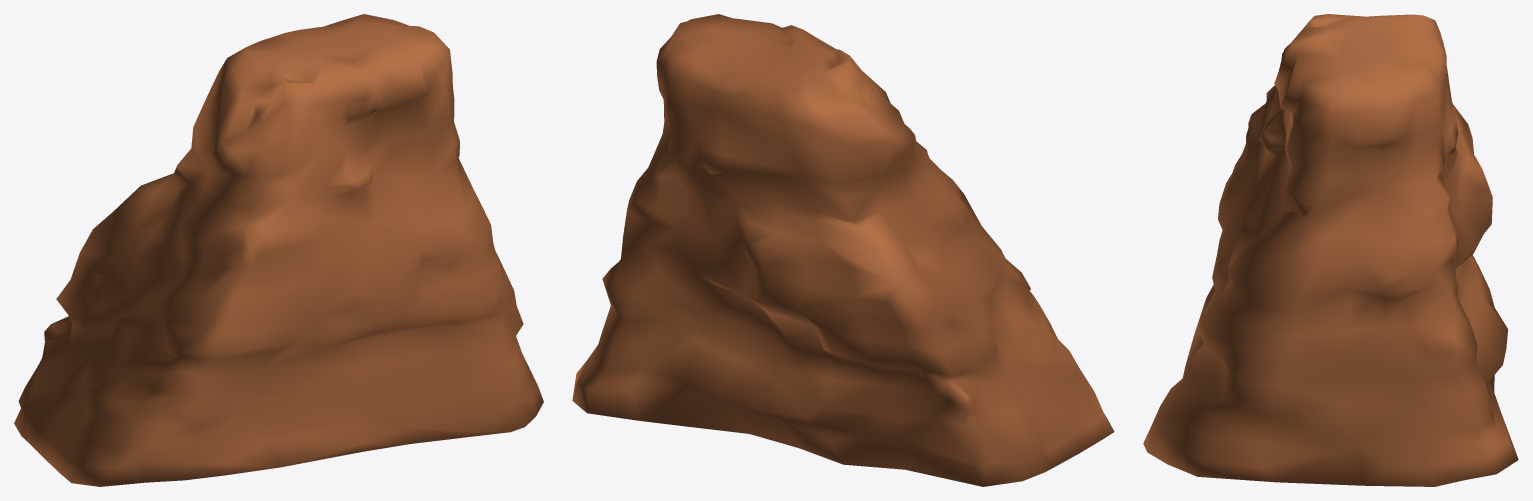
The model's file is MSH_Rocks_Cliff_12_c.FBX.
The picture shows the model from 3 angles, left to right: view 1: azimuth 30°, elevation 25°; view 2: azimuth 150°, elevation 25°; view 3: azimuth 270°, elevation 25°; orthographic projection. The views are drawn at different scales.
Visible parts, largest first — view 1: MESH_LOD0; view 2: MESH_LOD0; view 3: MESH_LOD0.
Part boxes in pixels (x1=…): MESH_LOD0: x1=14, y1=14, x2=543, y2=486; MESH_LOD0: x1=572, y1=14, x2=1114, y2=486; MESH_LOD0: x1=1143, y1=14, x2=1518, y2=486.
Size of what is drawn, in the model's own units: 352 by 253 by 229.
